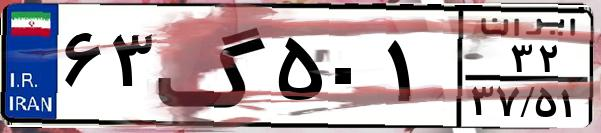0: (330, 28, 385, 110)
1: (385, 28, 445, 110), (560, 70, 590, 125)
2: (537, 27, 568, 80)
3: (110, 28, 156, 98), (508, 27, 537, 80), (470, 70, 495, 125)
5: (270, 28, 330, 110), (535, 70, 560, 125)
6: (57, 26, 110, 100)
7: (495, 70, 520, 125)
گ: (156, 12, 270, 120)
